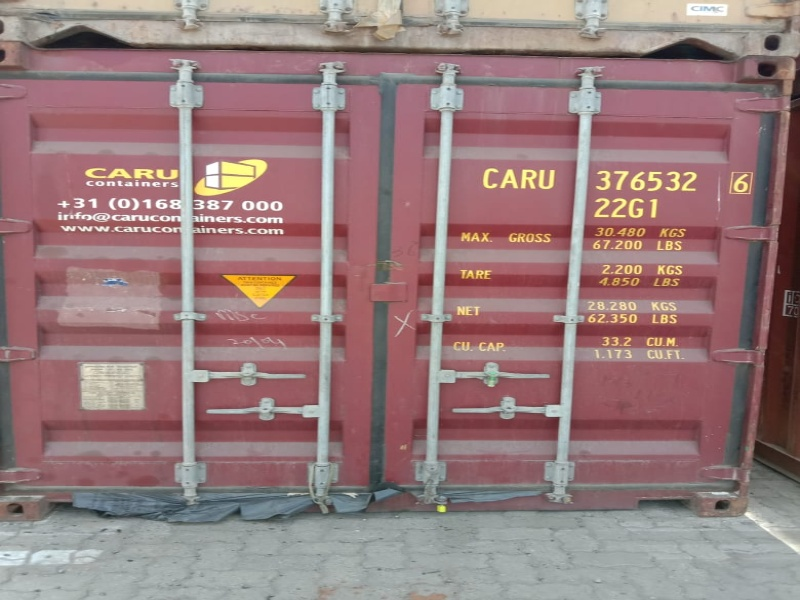iso: (593, 196, 656, 225)
mgw: (458, 227, 697, 251)
serial: (477, 159, 756, 196)
